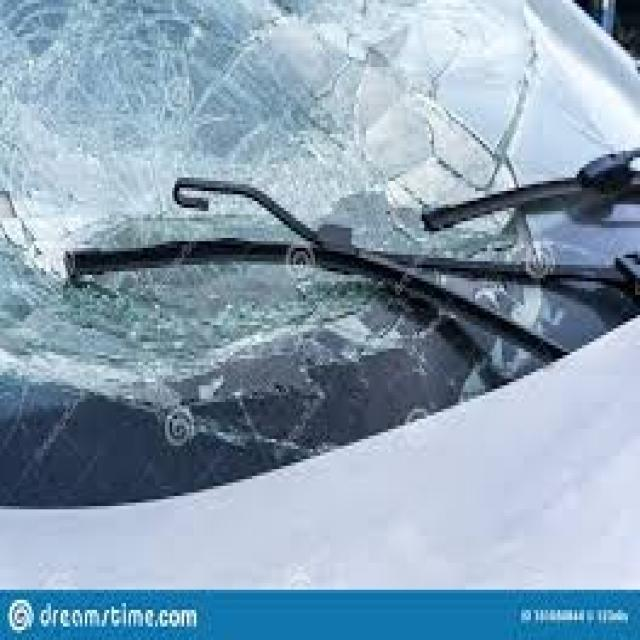damaged-windscreen: (0, 0, 640, 520)
